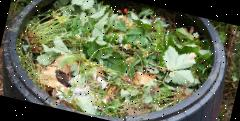organic: (150, 43, 206, 92), (39, 36, 98, 80), (83, 35, 136, 80), (65, 0, 102, 16)
